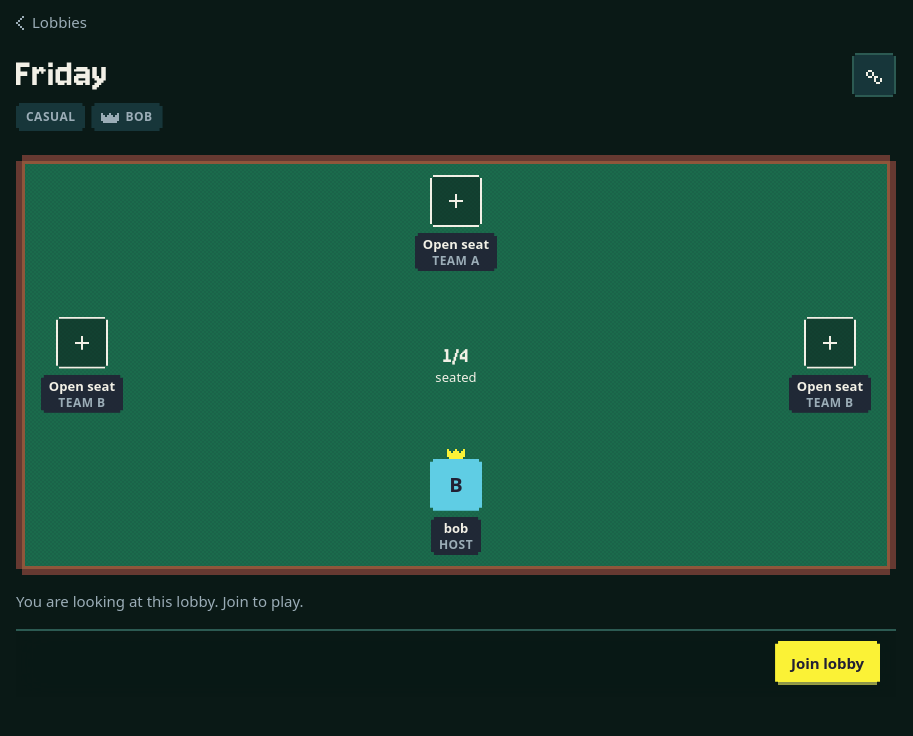
Test: LobbyRoom: joining, leaving and the host (spec §4.7 Actions) › a non-member sees "Join lobby"; after joining they appear Not seated (AC 1)
Expected: the text "You are looking at this lobby. Join to play." is shown, [16, 591, 304, 611]
Expected: the number of buttons named "Open seat, team" is 3, [778, 317, 882, 413]; [404, 175, 508, 271]; [30, 317, 134, 413]
Click the button "Join lobby". click: coordinates (828, 663)
box: [775, 641, 880, 685]
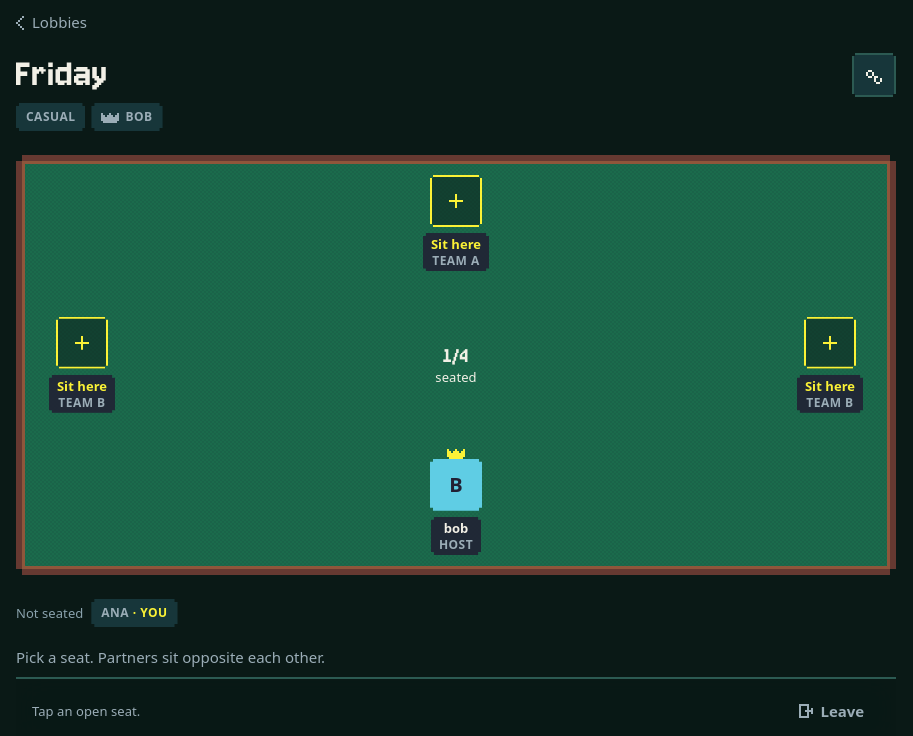
Result: the text "· you" is shown at [129, 604, 168, 621]
Result: the text "Pick a seat. Partners sit opposite each other." is shown at [16, 647, 325, 667]
Result: the button "Join lobby" is gone
